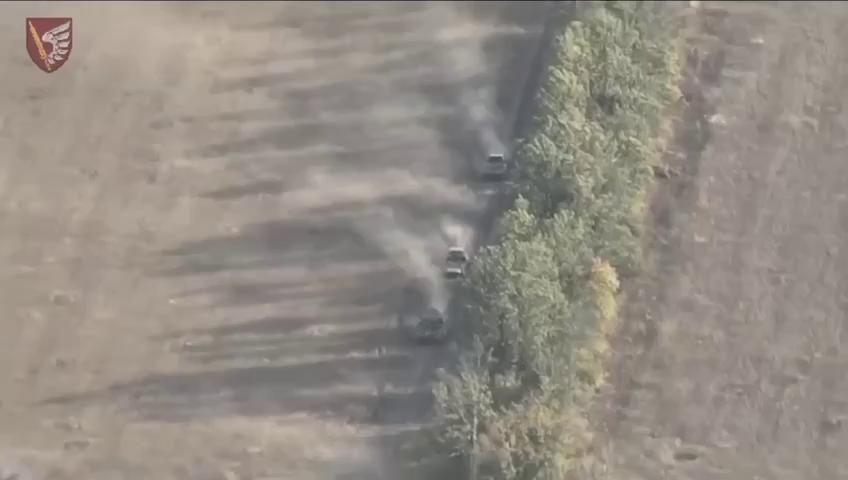tank: (415, 310, 448, 347), (442, 242, 473, 280), (478, 149, 510, 185)
